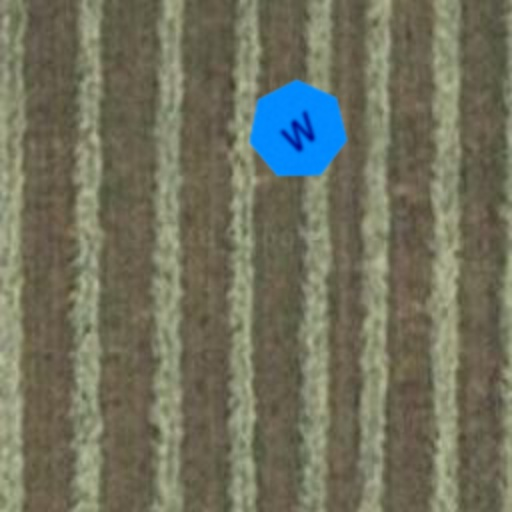heptagon: (226, 58, 370, 202)
